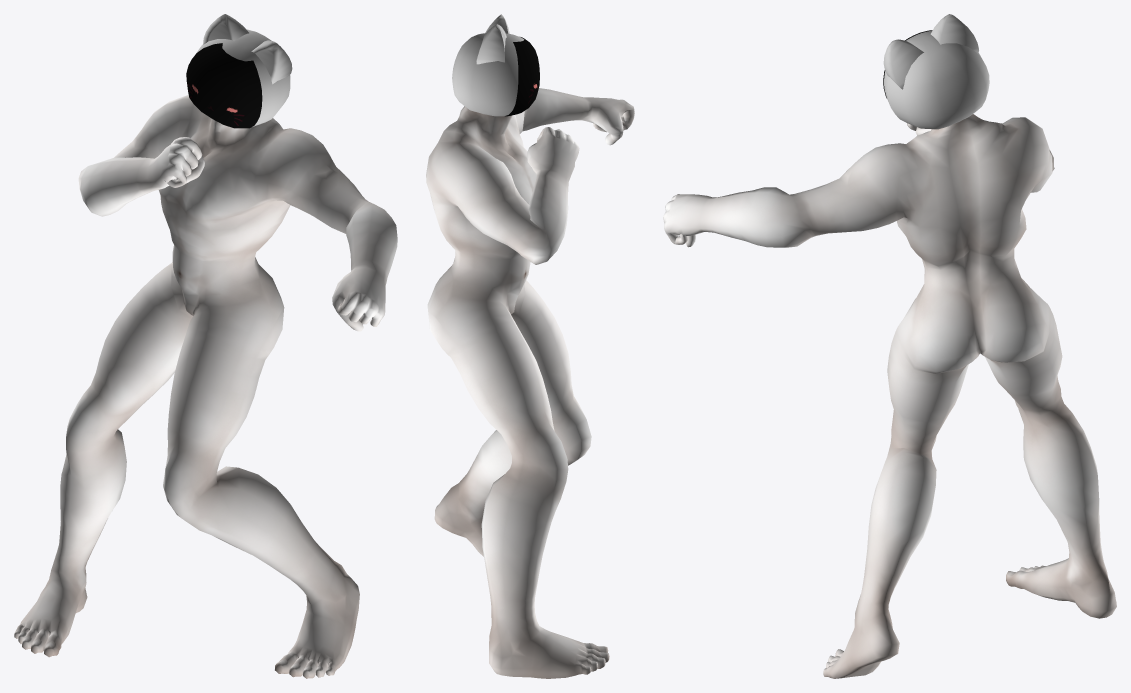
The picture shows the model from 3 angles, left to right: view 1: azimuth 30°, elevation 25°; view 2: azimuth 150°, elevation 25°; view 3: azimuth 270°, elevation 25°; orthographic projection. The views are drawn at different scales.
Parts seen in each view (by area): view 1: Muscle_Body, ______?001, Cat_Head; view 2: Muscle_Body, Cat_Head, ______?001; view 3: Muscle_Body, Cat_Head.
Boxes of the visible parts, x1,y1,x2,y2 form: Muscle_Body: [14, 95, 397, 678]; ______?001: [186, 43, 262, 128]; Cat_Head: [196, 14, 292, 126]; Muscle_Body: [426, 88, 634, 678]; Cat_Head: [452, 14, 524, 116]; ______?001: [505, 37, 539, 116]; Muscle_Body: [663, 114, 1116, 678]; Cat_Head: [883, 14, 989, 129].
Bounding box in the file's own units: 11.92 × 27.71 × 17.73.
